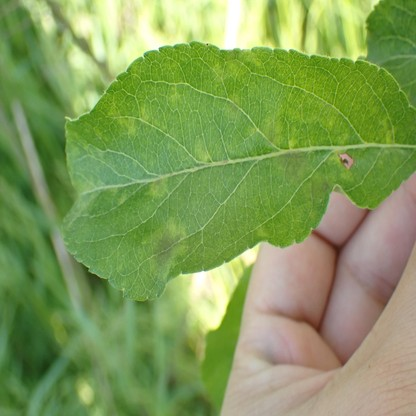frogeye_leaf_spot: (337, 152, 354, 171)
scab: (147, 221, 185, 273), (107, 106, 134, 135), (276, 151, 307, 176), (312, 176, 330, 203), (383, 114, 393, 144), (196, 140, 208, 163), (149, 178, 165, 194), (226, 98, 238, 117), (266, 122, 275, 146), (213, 64, 224, 82), (139, 107, 149, 122), (118, 189, 127, 205)
